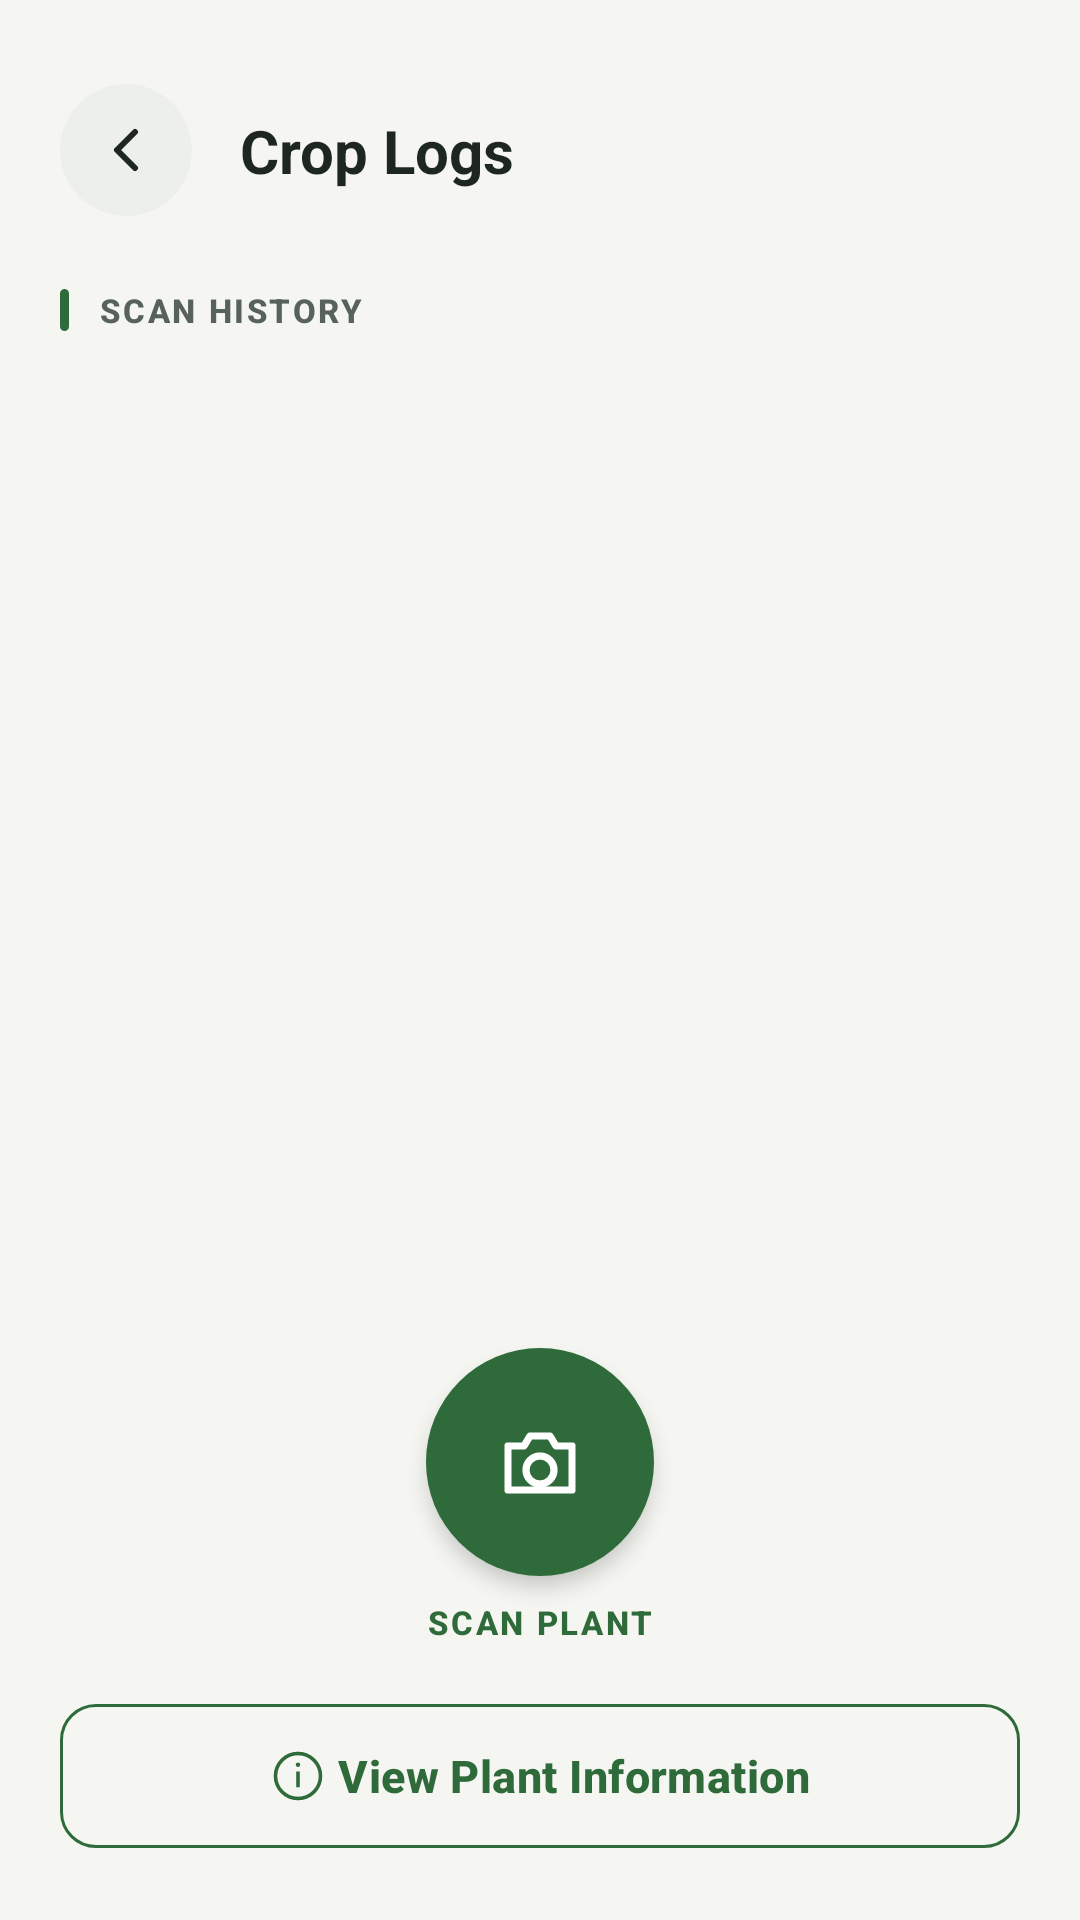

Screen size 1080px x 1920px. Icon name, then its box in pixels as Rect(x1, y1, x2, y2):
Back: Rect(114, 129, 138, 171)
Start diagnosis: Rect(426, 1348, 654, 1576)
